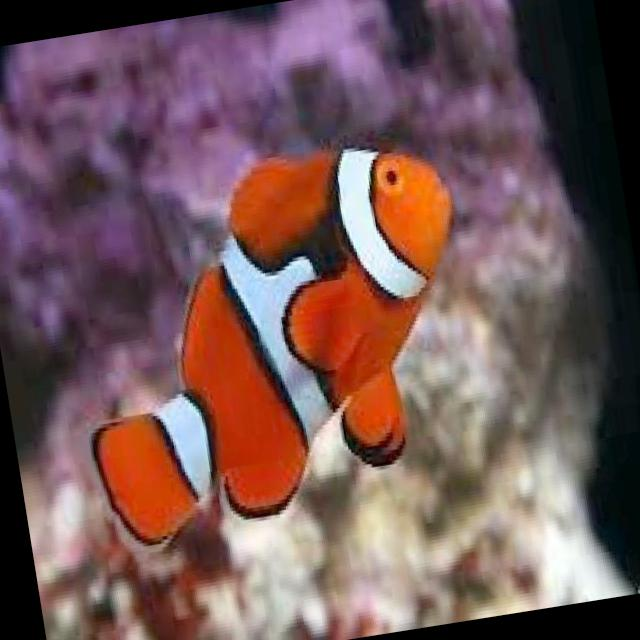ClownFish: (42, 130, 501, 560)
